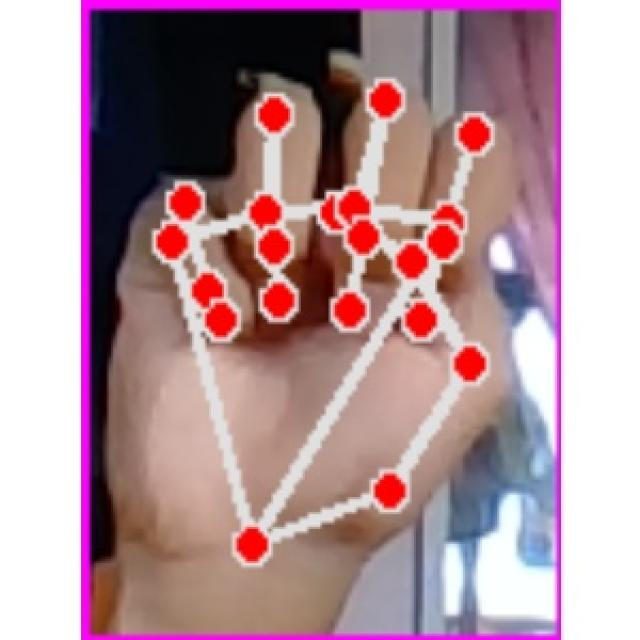M: (115, 71, 528, 593)
